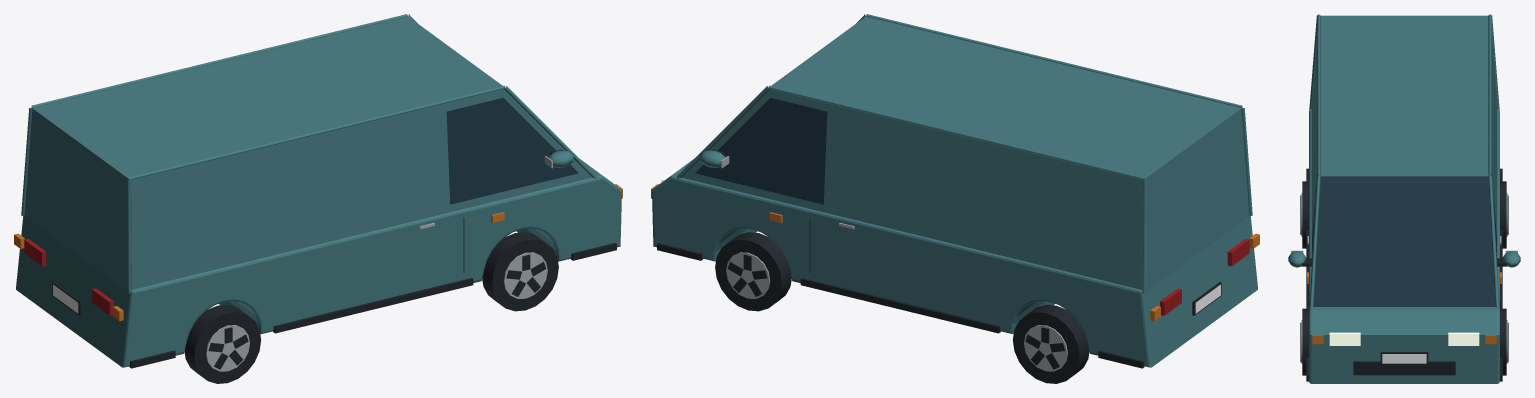
The model's file is van-near.glb.
3 renders of one model, left to right at view 1: azimuth 30°, elevation 25°; view 2: azimuth 150°, elevation 25°; view 3: azimuth 270°, elevation 25°, orthographic. The views are drawn at different scales.
Visible parts, largest first — view 1: body_paint, wheel_surface (×2), body_glass, body_trim, body_brake; view 2: body_paint, wheel_surface (×2), body_glass, body_trim, body_brake; view 3: body_paint, body_glass, body_trim, wheel_surface (×4), body_headlamp, registration_text.
Boxes of the visible parts, <box> form: body_paint: <box>16,14,621,367</box>; wheel_surface (×2): <box>184,232,558,383</box>; body_glass: <box>446,98,578,204</box>; body_trim: <box>52,149,616,368</box>; body_brake: <box>24,239,113,315</box>; body_paint: <box>652,14,1257,367</box>; wheel_surface (×2): <box>715,232,1089,383</box>; body_glass: <box>695,98,827,204</box>; body_trim: <box>657,149,1221,368</box>; body_brake: <box>1160,239,1249,315</box>; body_paint: <box>1288,14,1520,383</box>; body_glass: <box>1312,173,1496,306</box>; body_trim: <box>1302,168,1506,381</box>; wheel_surface (×4): <box>1300,181,1508,375</box>; body_headlamp: <box>1329,332,1479,345</box>; registration_text: <box>1382,354,1426,363</box>.
Bounding box in the file's own units: 5.43 × 2.27 × 2.47.
